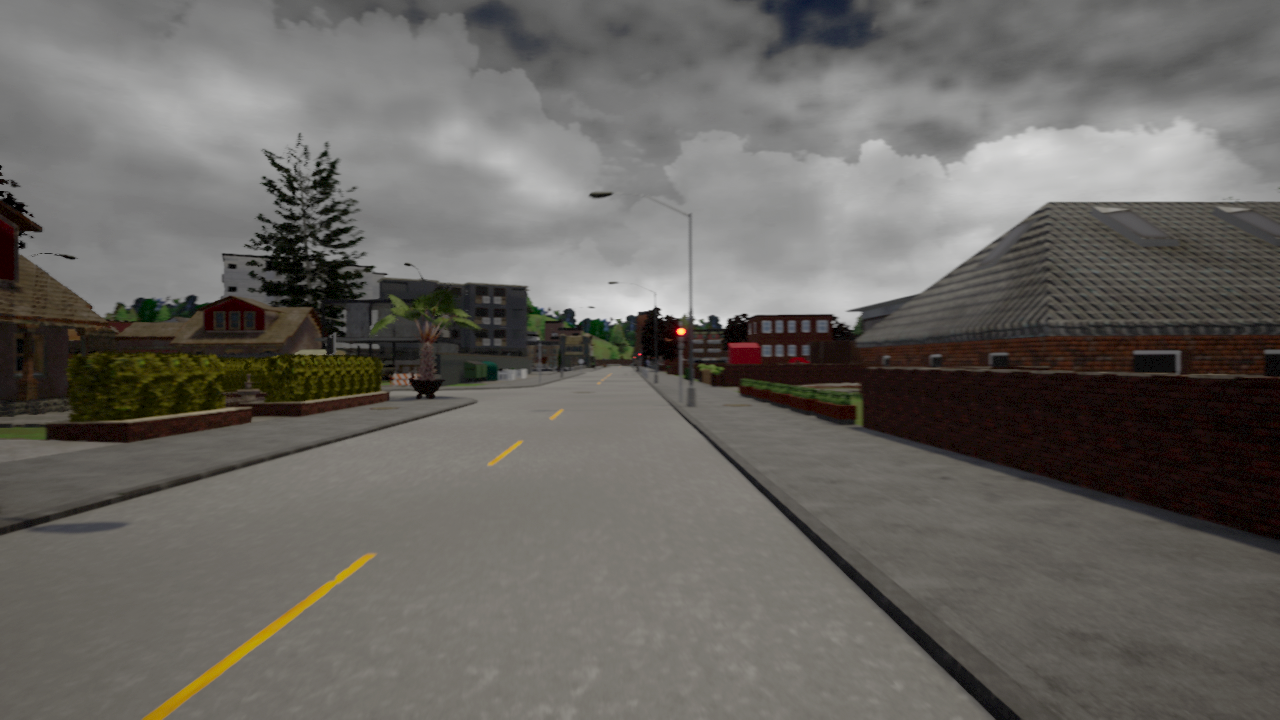red: (675, 326, 687, 350)
